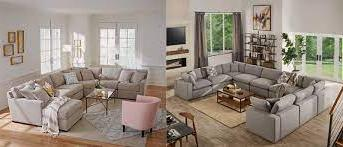TV: (165, 24, 187, 46)
chair: (119, 95, 161, 135), (175, 107, 198, 147)
door: (116, 21, 138, 70), (99, 18, 116, 67), (38, 18, 53, 73), (318, 36, 336, 81), (303, 34, 320, 78), (49, 20, 61, 74), (290, 36, 305, 73), (336, 37, 343, 82)
light: (63, 44, 71, 69)
sofa: (177, 62, 332, 138), (5, 67, 152, 128)
table: (165, 108, 193, 142), (214, 89, 255, 112), (84, 88, 116, 117), (60, 66, 88, 74)
